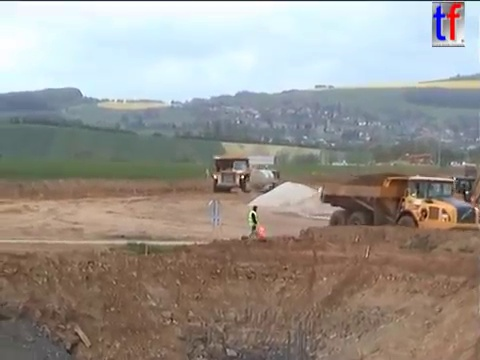excavator: (434, 174, 480, 241)
truck: (318, 174, 480, 244), (210, 153, 254, 193), (246, 167, 282, 194), (462, 163, 478, 179)
worker: (246, 203, 261, 241)
